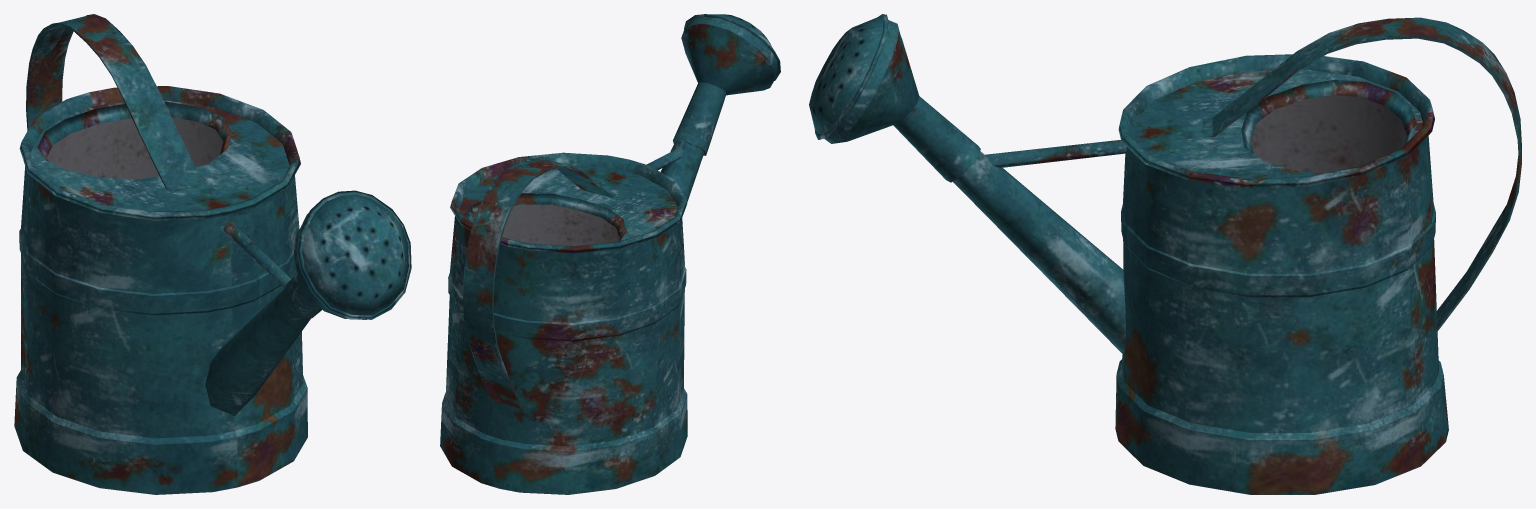
Rendered from watering_can.fbx.
The picture shows the model from 3 angles, left to right: view 1: azimuth 30°, elevation 25°; view 2: azimuth 150°, elevation 25°; view 3: azimuth 270°, elevation 25°; orthographic projection. The views are drawn at different scales.
Visible parts, largest first — view 1: LP_WC_01_low, LP_WC_02_low; view 2: LP_WC_01_low, LP_WC_02_low; view 3: LP_WC_01_low, LP_WC_02_low.
Part boxes in pixels (x1=…): LP_WC_01_low: x1=14, y1=86, x2=411, y2=494; LP_WC_02_low: x1=26, y1=14, x2=205, y2=192; LP_WC_01_low: x1=440, y1=14, x2=780, y2=494; LP_WC_02_low: x1=463, y1=158, x2=616, y2=409; LP_WC_01_low: x1=809, y1=14, x2=1448, y2=494; LP_WC_02_low: x1=1202, y1=17, x2=1521, y2=333.
Size of the model in its own units: 0.2343 by 0.3391 by 0.5382.
Materials: 1 (1 with a texture image).
